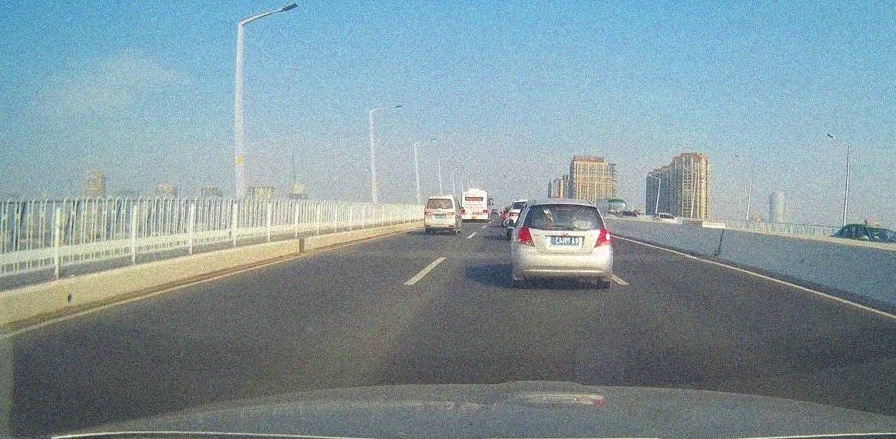L_light: (517, 225, 535, 247), (461, 209, 466, 214), (425, 211, 431, 215)
R_light: (594, 227, 611, 247), (447, 211, 455, 215), (483, 209, 488, 214)
T_light: (555, 203, 571, 207), (436, 199, 443, 201), (471, 197, 476, 198)
day-no: (424, 196, 456, 234), (460, 191, 488, 222)
day-right: (513, 201, 613, 288)
